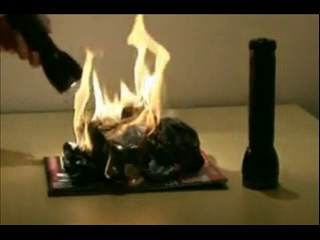fire: (118, 14, 170, 143), (69, 48, 118, 154)
